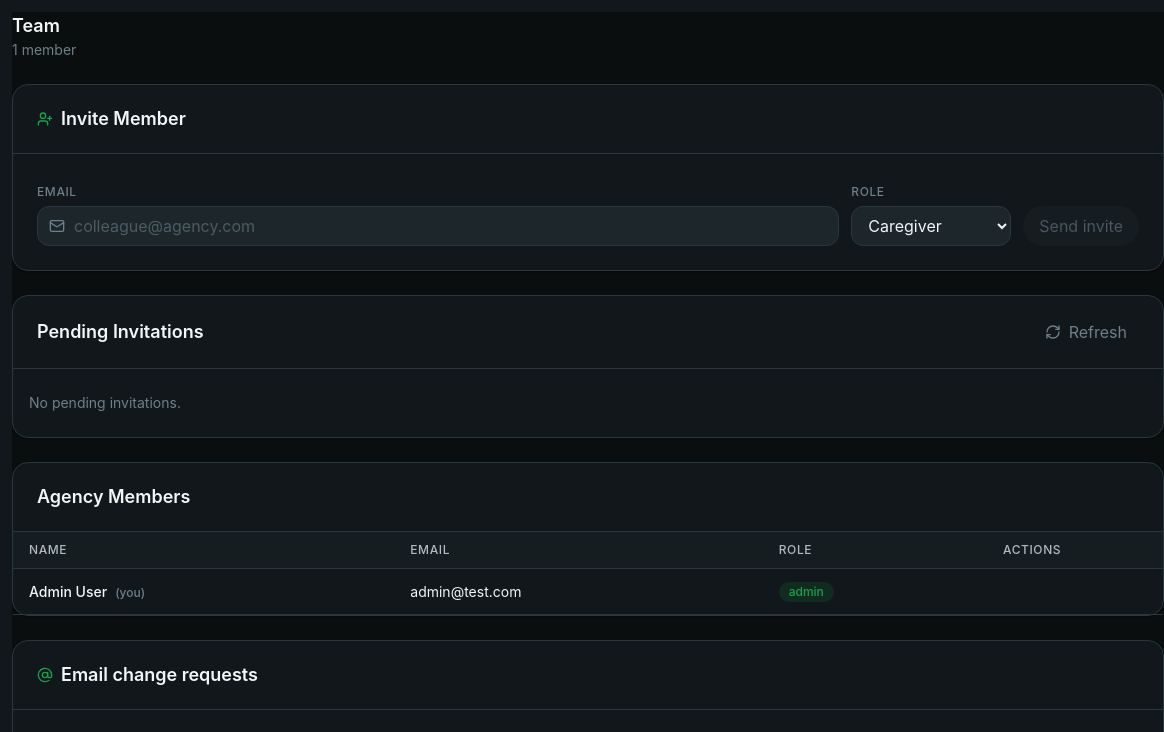
it: TeamPage › shows "already a member" message when invitee is already in the org
In the field with placeholder "colleague@agency.com": {"x": 438, "y": 226} [37,206,839,246], type "existing@agency.com"
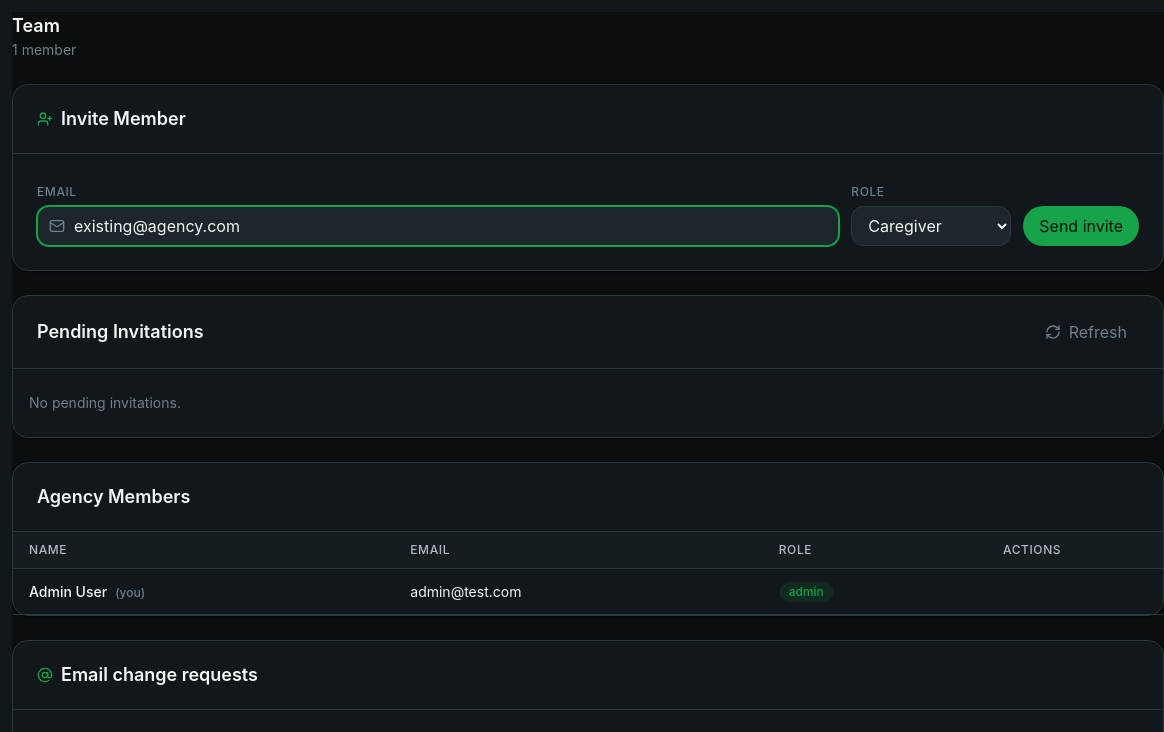
Click the button "Send invite": {"x": 1081, "y": 226} [1023,206,1139,246]
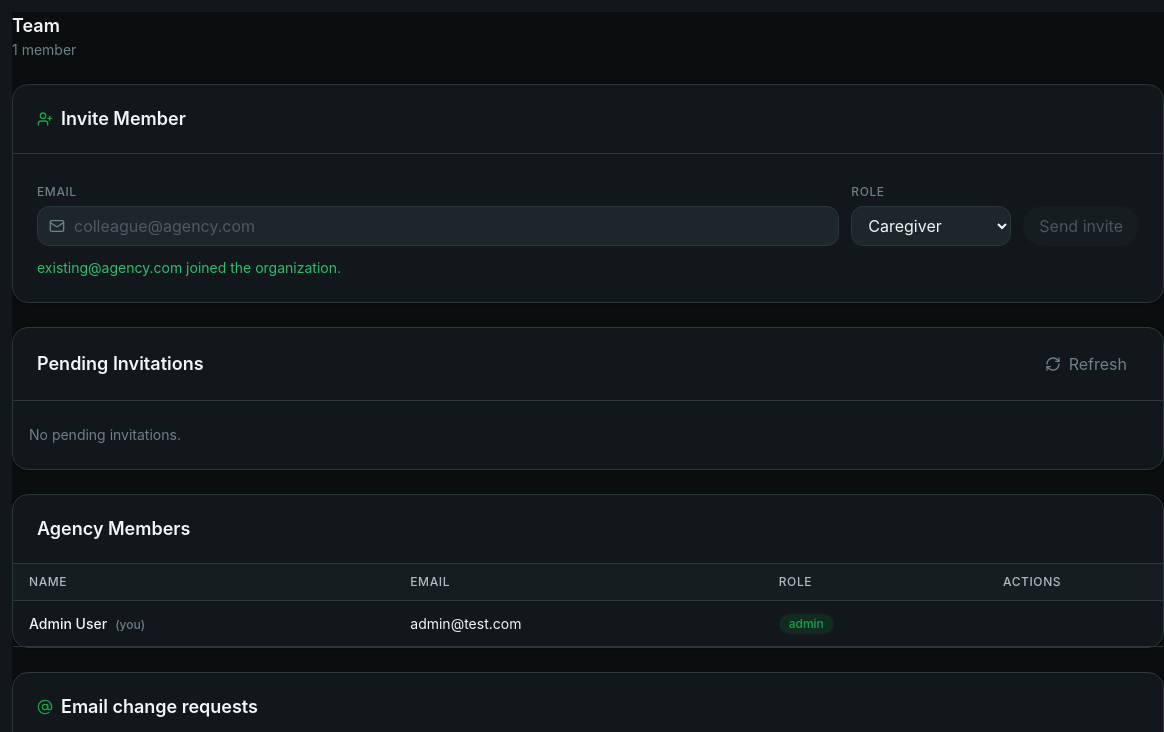
Expected: the text "existing@agency.com joined the organization." is shown, [37,259,341,276]
